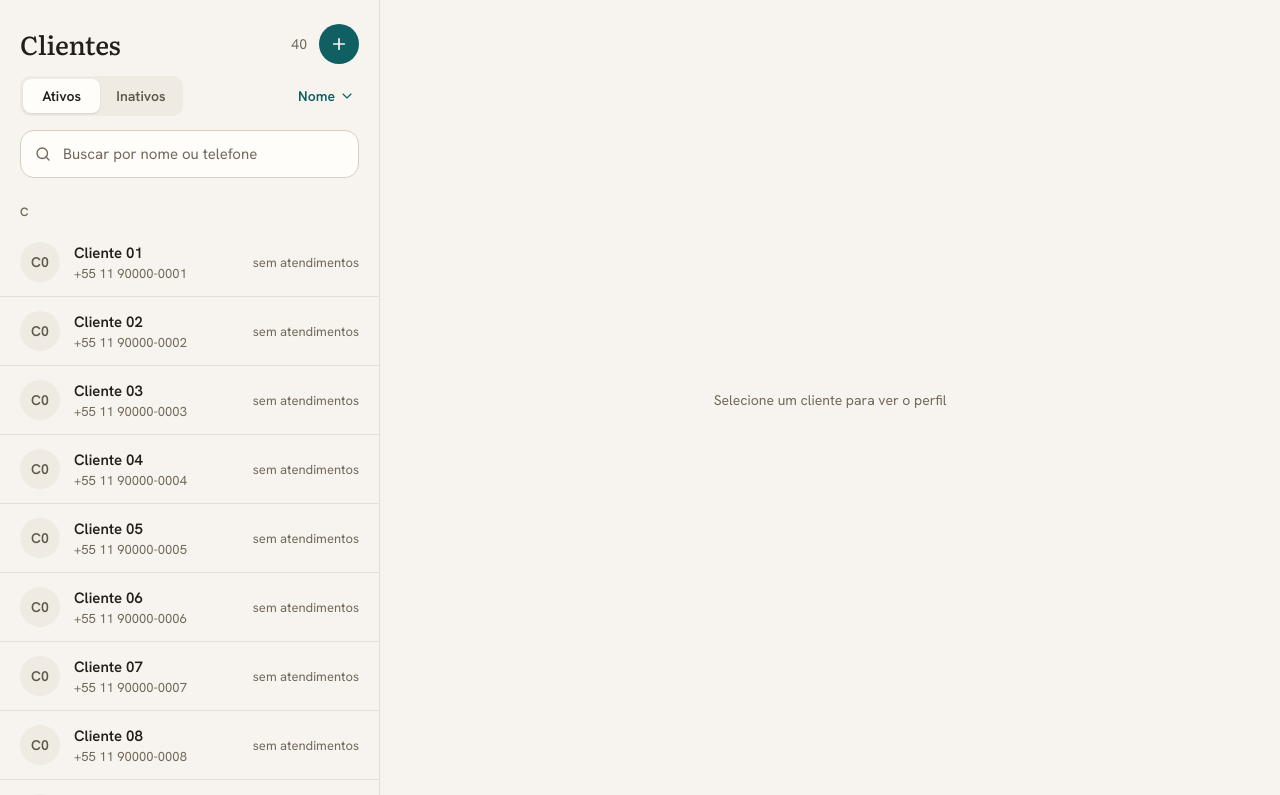
Scenario: Clientes — scroll infinito › Ordenar abre a folha e a escolha vai para o servidor, sem letras
Click the button named "Ordenar por": click(325, 96) [290,76,359,116]
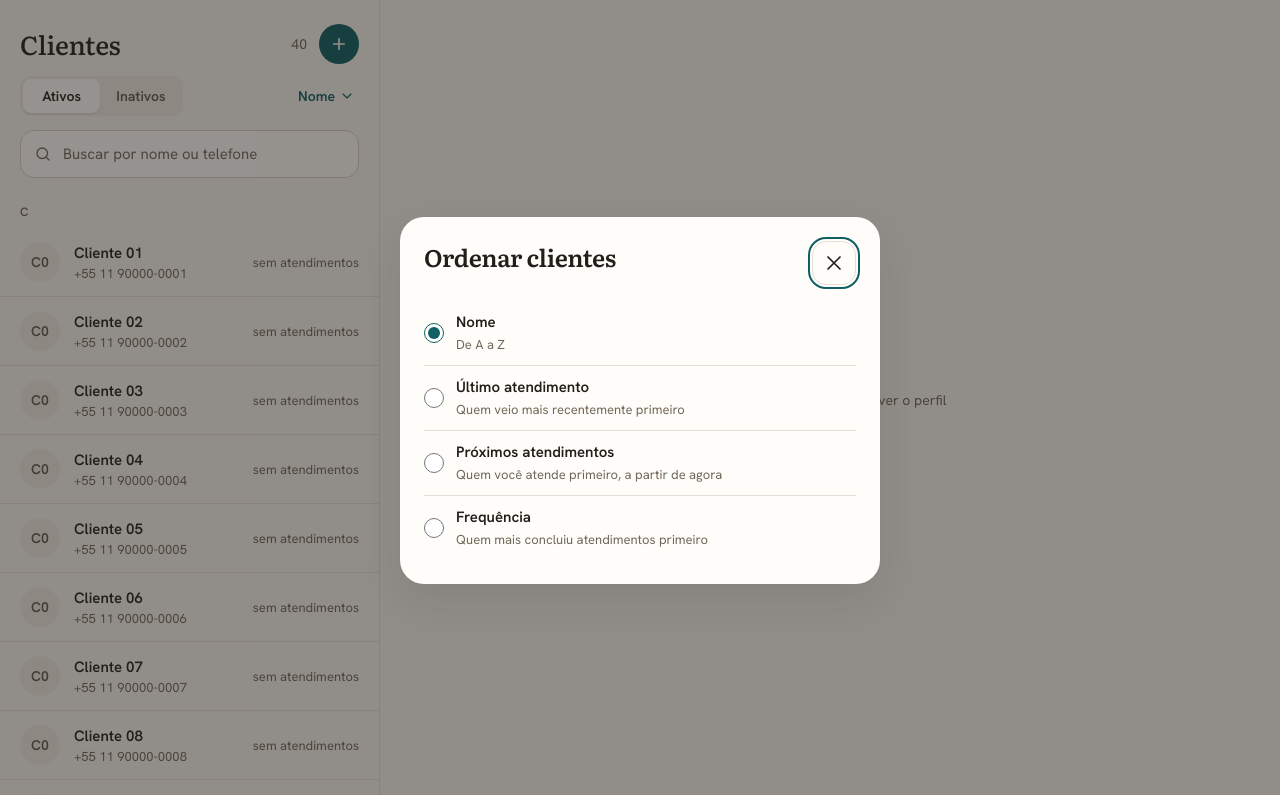
Click the radio button labelled "Frequência Quem mais concluiu atendimentos primeiro": click(434, 528) [424,518,444,538]
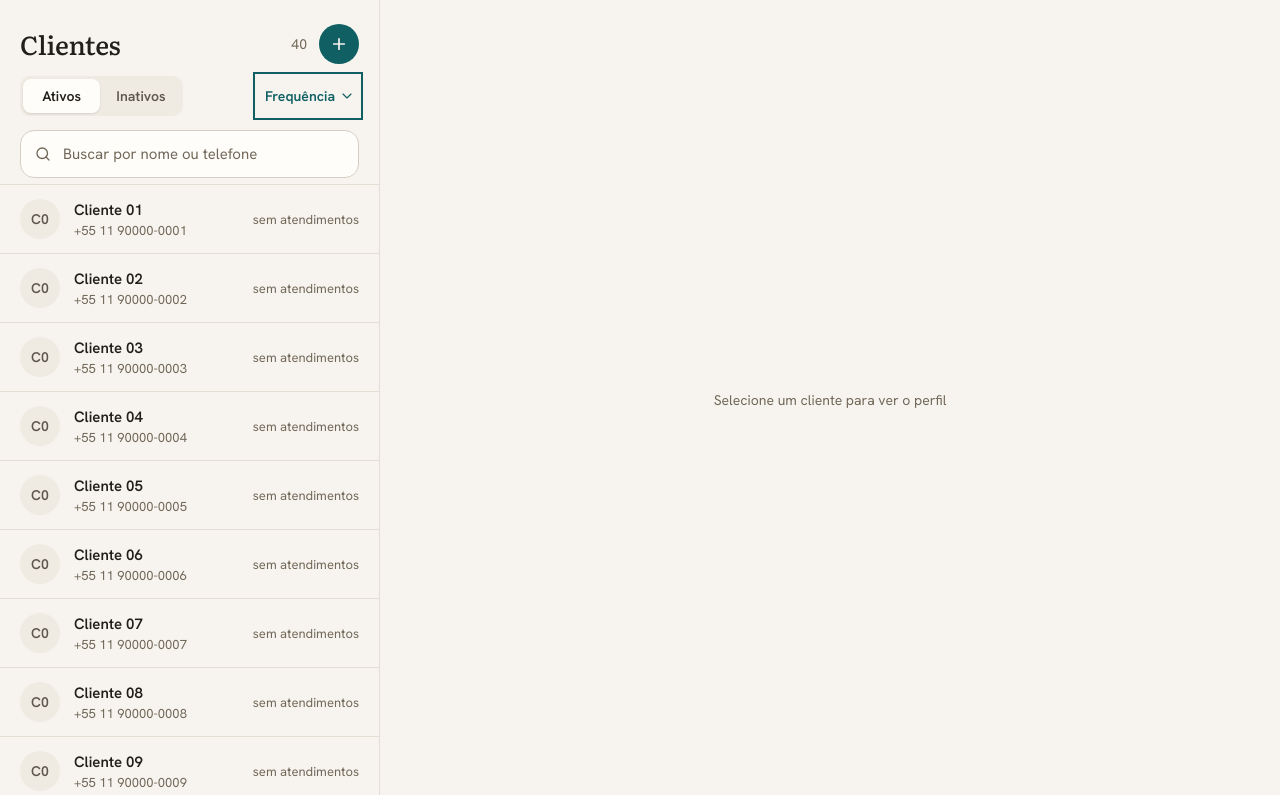
Expected: the dialog is gone
Expected: the button named "Ordenar por" reads "Frequência", [257,76,359,116]
Expected: the text with class "customer-panel-letter" is gone
